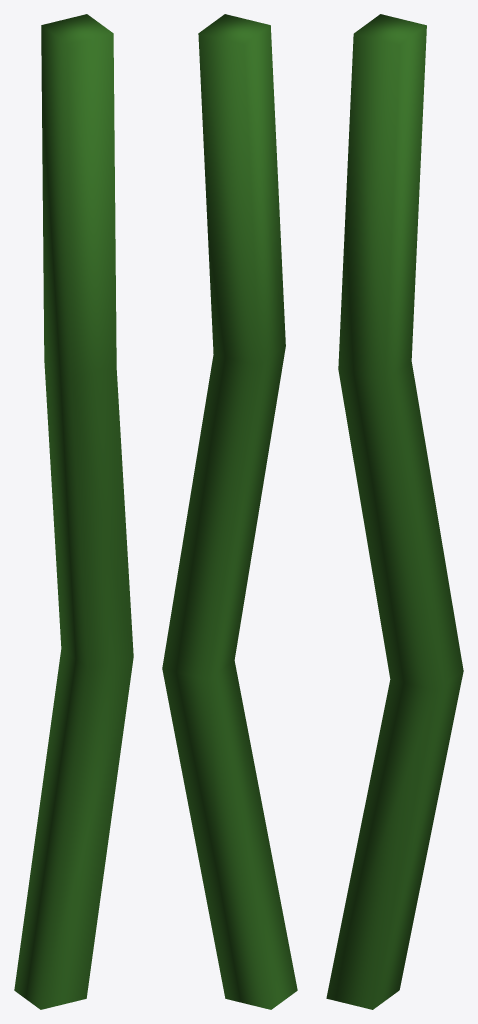
Rendered from Plant_Stem_01.fbx.
The picture shows the model from 3 angles, left to right: view 1: azimuth 30°, elevation 25°; view 2: azimuth 150°, elevation 25°; view 3: azimuth 330°, elevation 25°; orthographic projection.
Visible parts, largest first — view 1: Plant_Stem_01; view 2: Plant_Stem_01; view 3: Plant_Stem_01.
Boxes of the visible parts, left/top/right/bottom form: Plant_Stem_01: left=14, top=14, right=133, bottom=1009; Plant_Stem_01: left=162, top=14, right=297, bottom=1009; Plant_Stem_01: left=326, top=14, right=463, bottom=1009.
Size of the model in its own units: 6.02 by 54.59 by 4.5.
